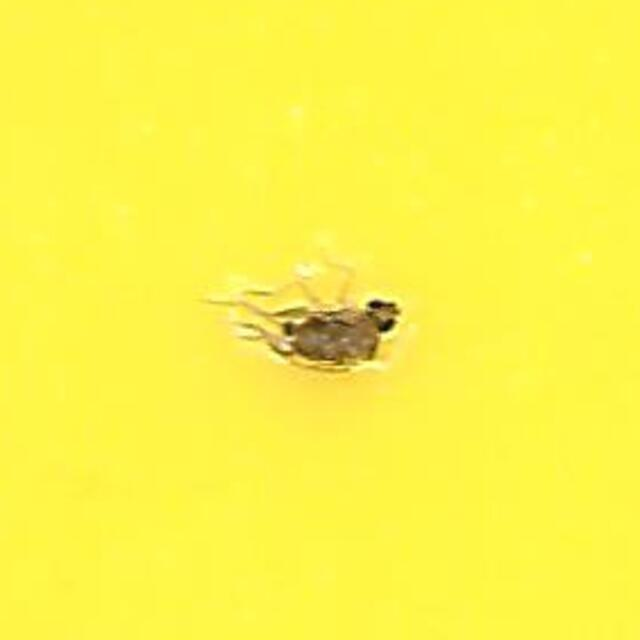Nematocera: (227, 247, 413, 393)
